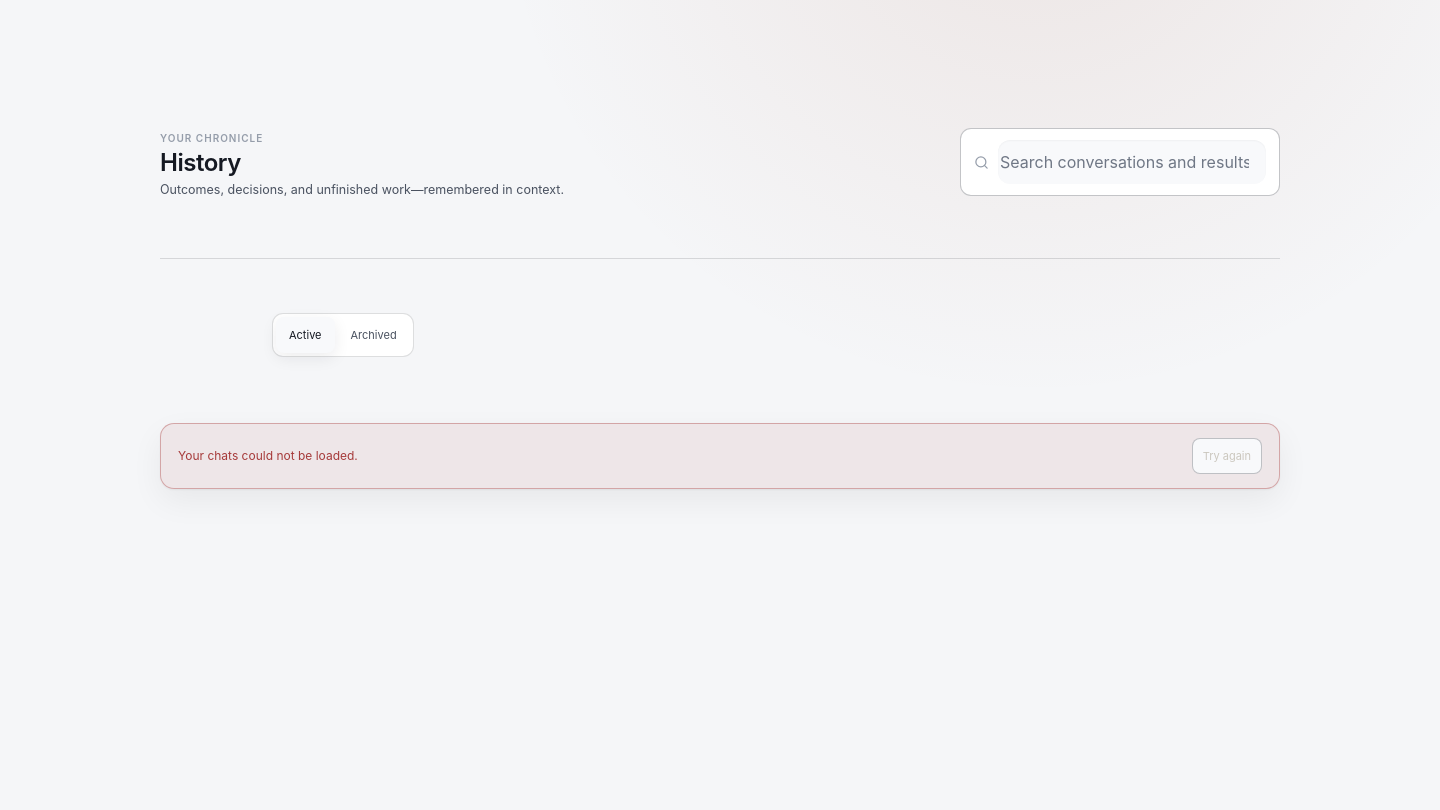
Test case: Chats page › offers an honest retry after an initial failure
Expected: the message shows "could not be loaded", [178, 448, 358, 463]
Step 1. Click the button "Try again" → [1227, 456], box [1192, 438, 1262, 474]
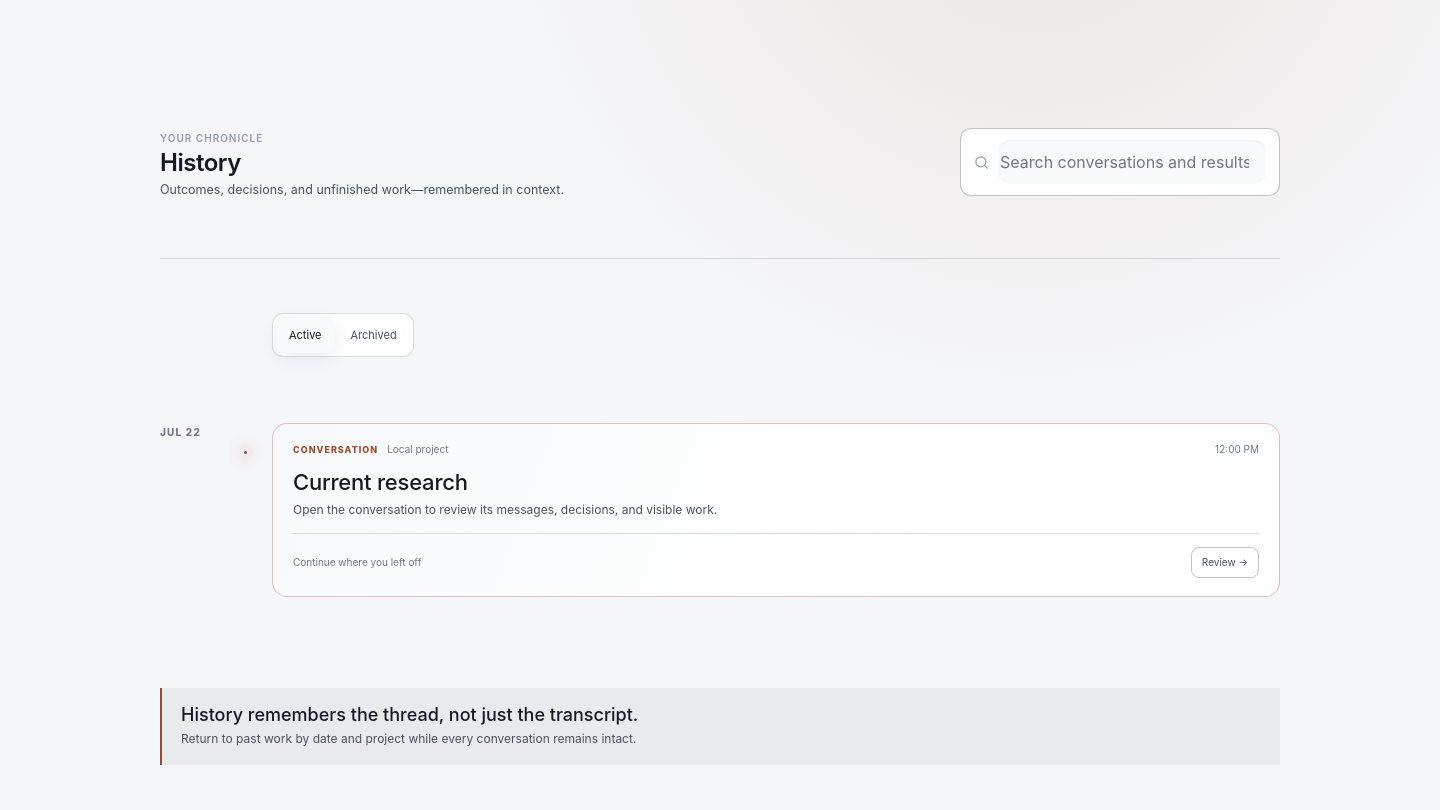
Expected: the link "Current research" is shown, [272, 423, 1280, 597]
